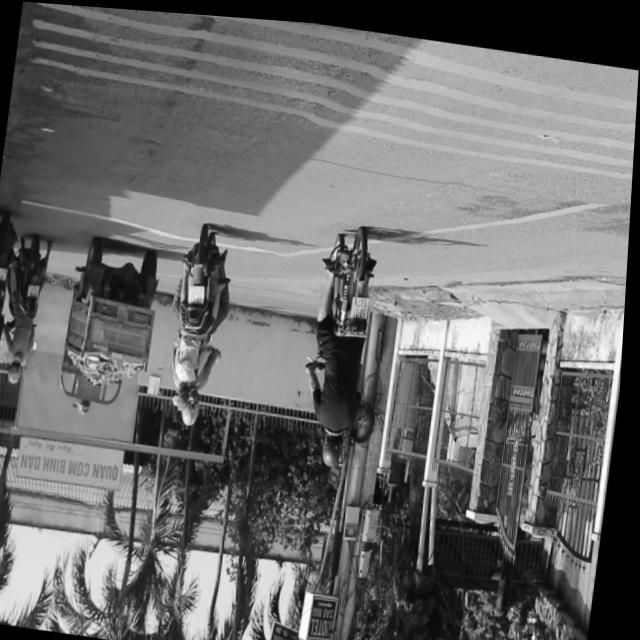helmet: (324, 424, 351, 464), (184, 396, 204, 424)
licenseplate: (297, 217, 389, 468), (161, 218, 242, 429)
motorcyclist: (177, 377, 195, 407)
nohelmet: (352, 289, 372, 312), (190, 280, 206, 300)
